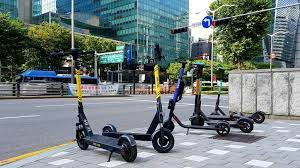kick_board: (51, 49, 136, 161)
kick_body: (114, 131, 151, 140), (184, 124, 215, 131), (209, 114, 240, 119)
kick_handler: (51, 48, 95, 60)
kick_neck: (75, 65, 86, 123), (153, 66, 162, 117), (215, 77, 222, 106), (195, 72, 200, 110)
kick_wheel: (152, 129, 174, 152), (118, 136, 136, 162), (75, 125, 88, 151), (237, 118, 253, 133), (217, 121, 229, 137), (189, 114, 203, 126), (254, 111, 265, 124), (164, 119, 175, 130)
